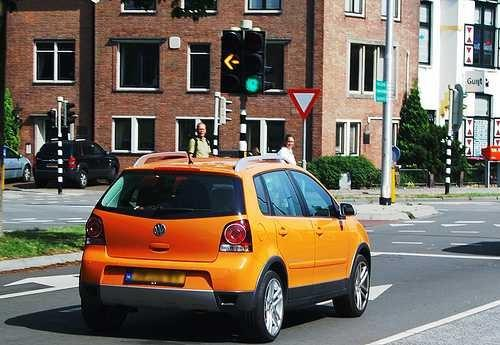green: (240, 32, 264, 95), (241, 74, 262, 93)
